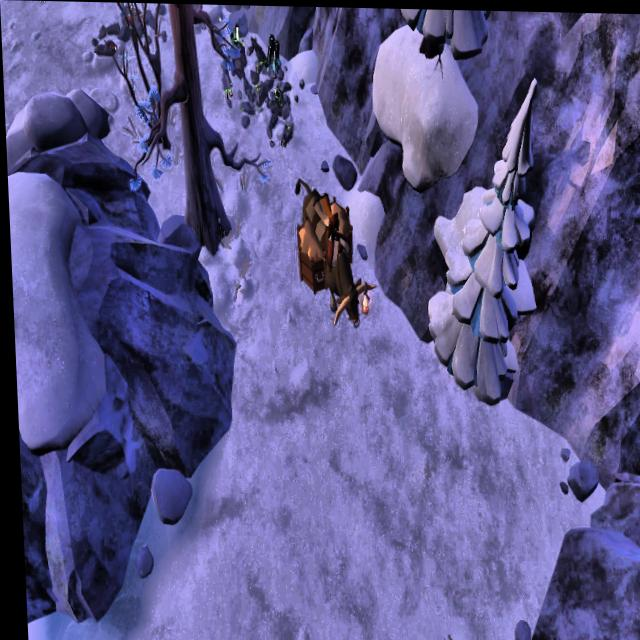ore_t4: (265, 31, 283, 73)
